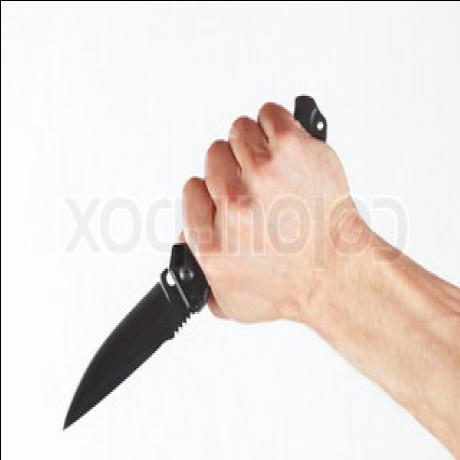1: (177, 102, 460, 460)
weapon: (58, 99, 322, 431)
